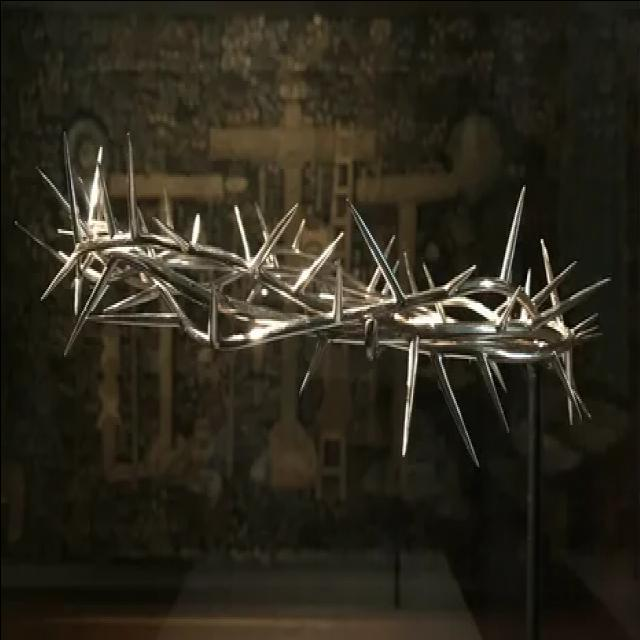crown: (52, 176, 592, 402)
